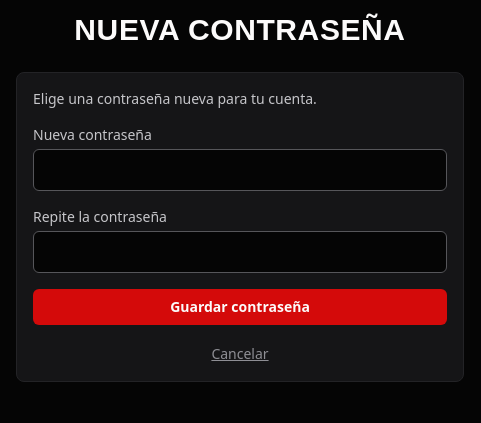
Test case: ResetPasswordPage › exige que las dos contraseñas coincidan
Type "secreta1" into the password field labelled "Nueva contraseña".
click(240, 170); type("secreta1")  # box [33, 149, 447, 191]
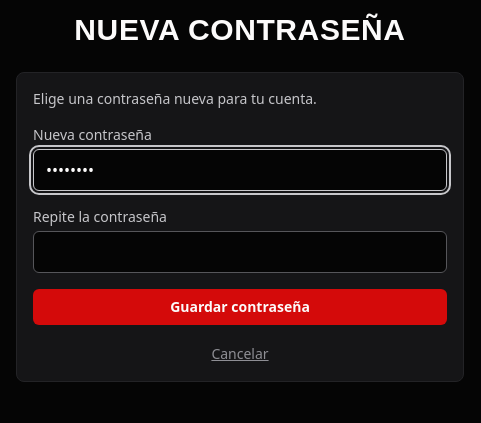
Type "secreta2" into the password field labelled "Repite la contraseña".
click(240, 252); type("secreta2")  # box [33, 231, 447, 273]
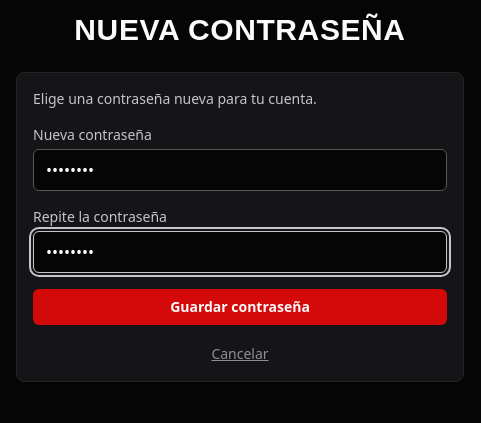
Click the button "Guardar contraseña".
click(240, 307)  # box [33, 289, 447, 325]
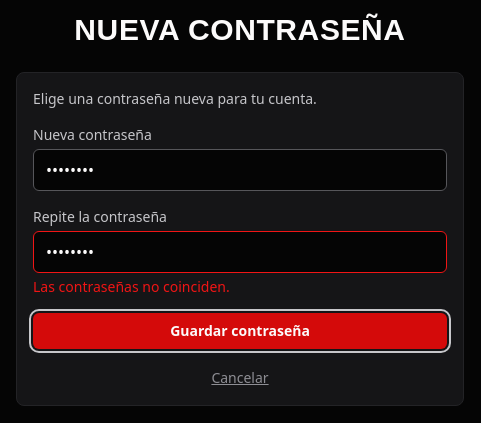
Result: the text "Las contraseñas no coinciden." is shown at [33, 277, 230, 296]
